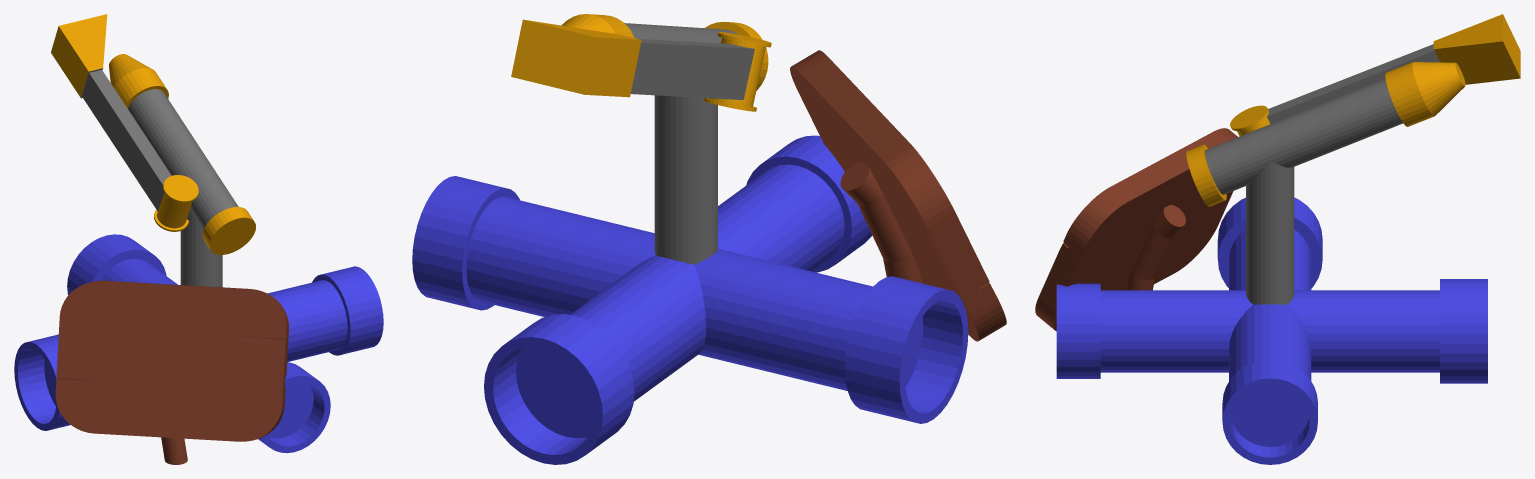
Rendered from FiskiyeLevel1.fbx.
3 views of the same model, side by side, from view 1: azimuth 30°, elevation 25°; view 2: azimuth 150°, elevation 25°; view 3: azimuth 270°, elevation 25° (orthographic). The views are drawn at different scales.
Parts seen in each view (by area): view 1: Cylinder.015, Cylinder.008, Cube.032, Cylinder.010, Cylinder.009; view 2: Cylinder.008, Cylinder.015, Cube.032, Cylinder.009, Cylinder.010; view 3: Cylinder.008, Cylinder.015, Cylinder.010, Cube.032, Cylinder.009.
Part boxes in pixels (<box>): Cylinder.015: <box>55,280,288,464</box>; Cylinder.008: <box>14,234,383,453</box>; Cube.032: <box>51,14,198,231</box>; Cylinder.010: <box>109,54,255,254</box>; Cylinder.009: <box>180,209,222,287</box>; Cylinder.008: <box>412,135,968,464</box>; Cylinder.015: <box>790,50,1006,341</box>; Cube.032: <box>511,19,771,111</box>; Cylinder.009: <box>654,95,717,264</box>; Cylinder.010: <box>561,14,768,90</box>; Cylinder.008: <box>1056,197,1487,464</box>; Cylinder.015: <box>1035,128,1237,331</box>; Cylinder.010: <box>1186,62,1465,206</box>; Cube.032: <box>1230,14,1520,136</box>; Cylinder.009: <box>1246,159,1294,304</box>.
Bounding box in the file's own units: 4.64 × 3.98 × 5.02.
